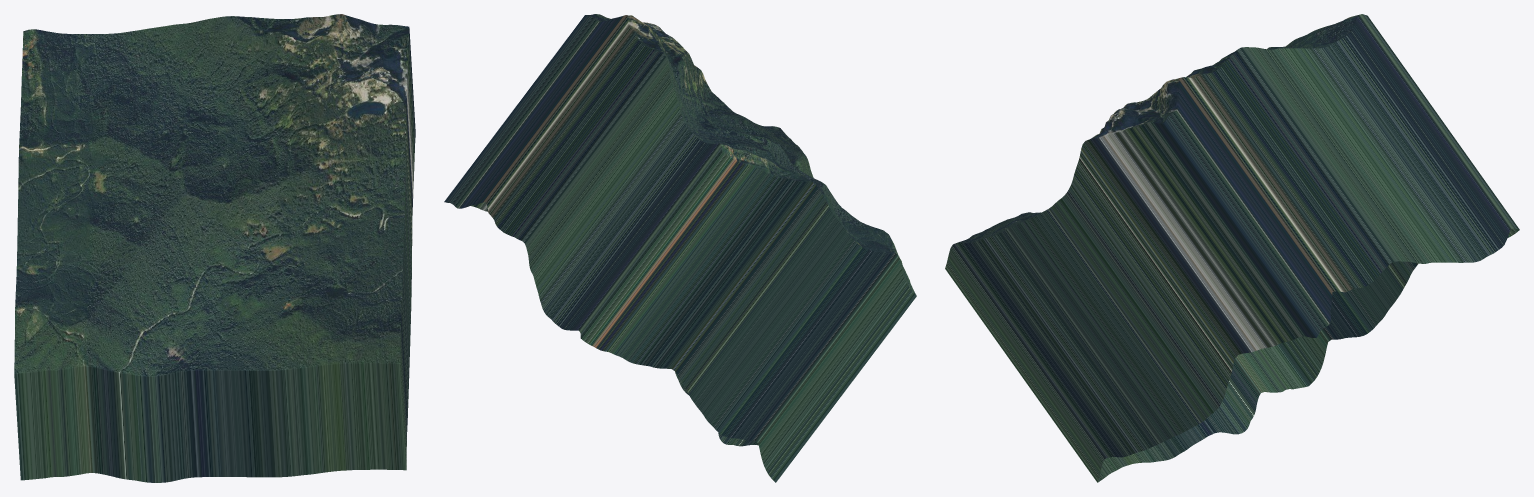
3 views of the same model, side by side, from view 1: azimuth 30°, elevation 25°; view 2: azimuth 150°, elevation 25°; view 3: azimuth 270°, elevation 25° (orthographic). The views are drawn at different scales.
Size of the model in its own units: 5942 by 5321 by 6557.
Materials: 1 (1 with a texture image).
